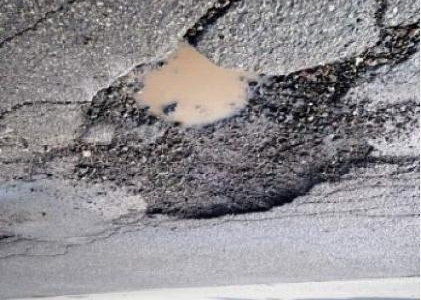pothole: (68, 36, 381, 226)
